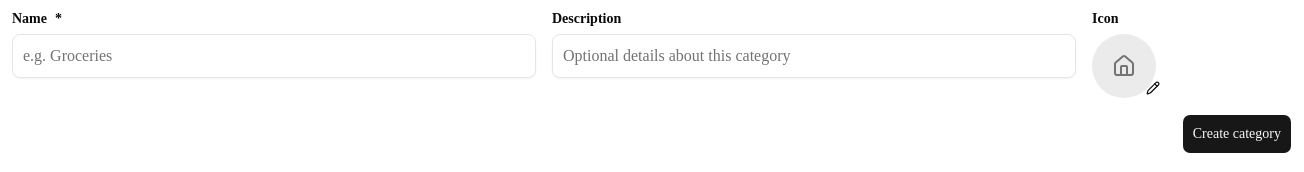
Scenario: CategoryForm › disables the submit button and shows the in-progress label while submitting
Type "Groceries" into the field labelled "Name *" at (274, 56), box [12,34,536,78]
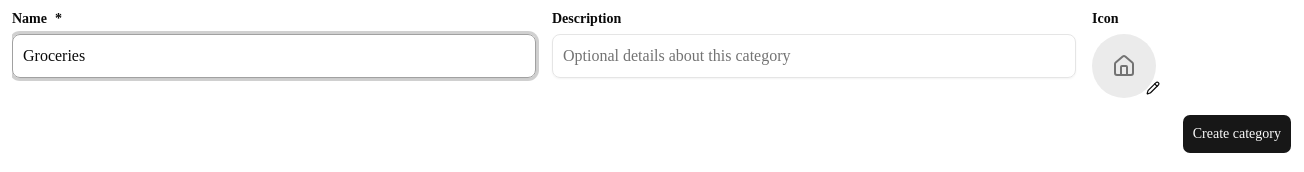
Click the button "Create category" at (1237, 134), box [1182,114,1292,154]
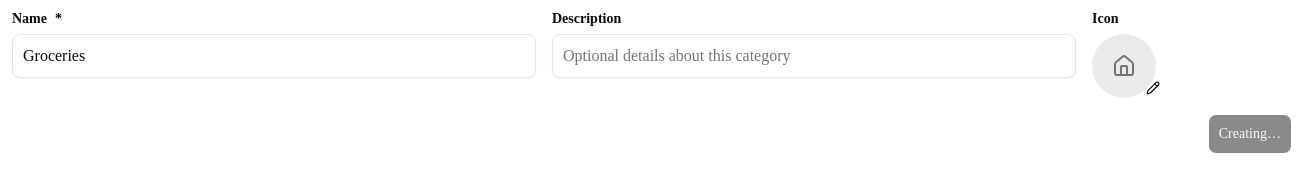
Result: the button "Creating…" is disabled at [1208,114,1292,154]
